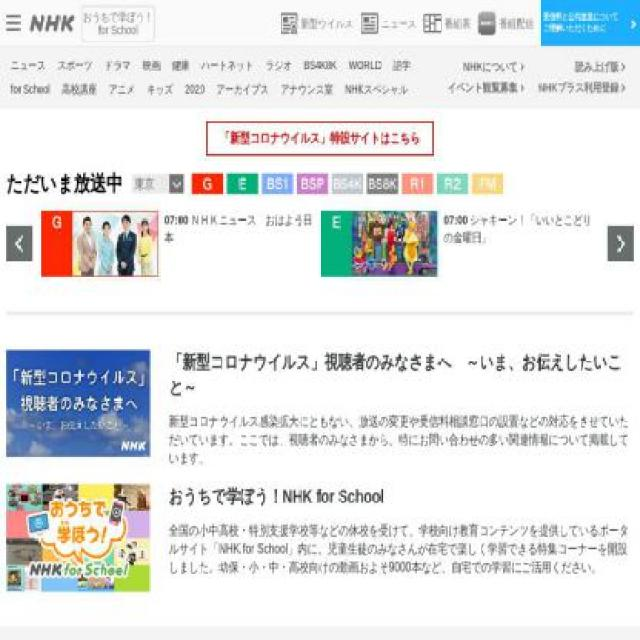button: (6, 349, 634, 468), (6, 483, 634, 592), (40, 211, 320, 277), (320, 211, 600, 277), (540, 0, 638, 48), (220, 129, 420, 148), (0, 211, 42, 278), (599, 210, 639, 278), (81, 5, 156, 41), (280, 11, 354, 35), (340, 77, 412, 101), (538, 79, 630, 96), (197, 53, 258, 78), (212, 77, 274, 101), (276, 77, 338, 101), (446, 79, 528, 96), (478, 11, 534, 35), (361, 11, 416, 35), (6, 77, 56, 101), (423, 11, 471, 35), (6, 53, 51, 78), (463, 59, 528, 76), (54, 53, 97, 78), (58, 77, 102, 101), (299, 53, 341, 78), (344, 53, 385, 78), (574, 59, 628, 76), (100, 53, 135, 78), (261, 53, 296, 78), (142, 77, 178, 101), (105, 77, 140, 101), (30, 14, 76, 32), (389, 53, 416, 78), (138, 53, 164, 78), (168, 53, 194, 78), (182, 77, 209, 101), (6, 14, 20, 34)
field: (132, 173, 185, 193)
